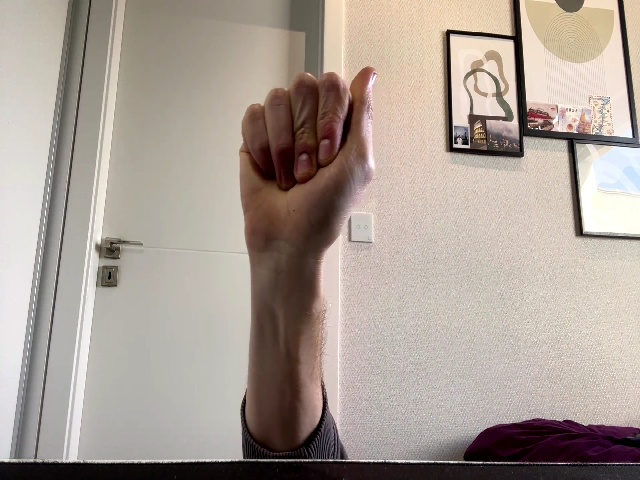A: (239, 66, 378, 257)
